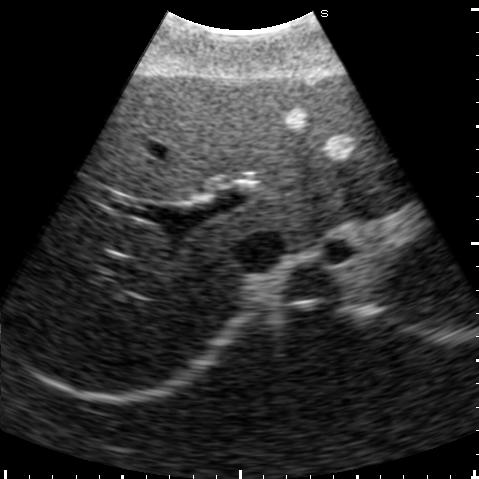IVC: (233, 232, 284, 273)
S1: (236, 202, 321, 248)
S2: (286, 163, 413, 218)
S3: (223, 73, 396, 194)
S4: (84, 75, 300, 202)
Tumor: (282, 107, 311, 131), (325, 137, 353, 160)
